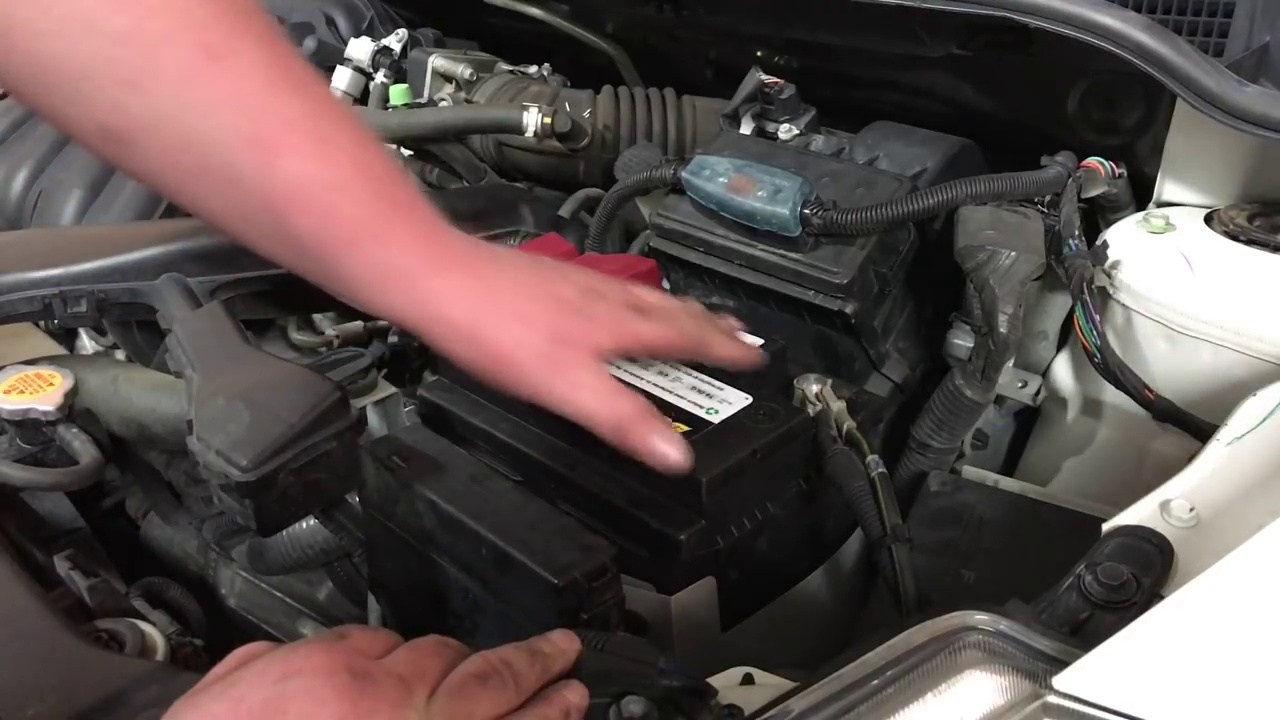battery: (433, 264, 872, 486)
neg_connected: (783, 358, 894, 481)
pos_touched: (490, 203, 676, 367)
